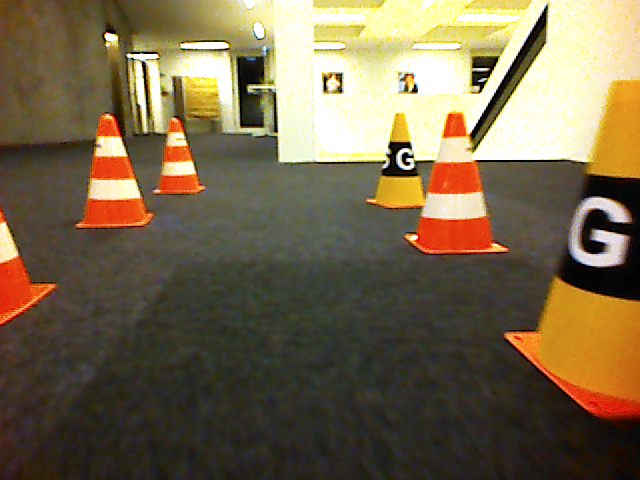orangeconesmall: (402, 110, 513, 257), (73, 111, 157, 230), (151, 116, 209, 196)
yellowcone: (503, 76, 640, 421), (365, 113, 425, 210)
